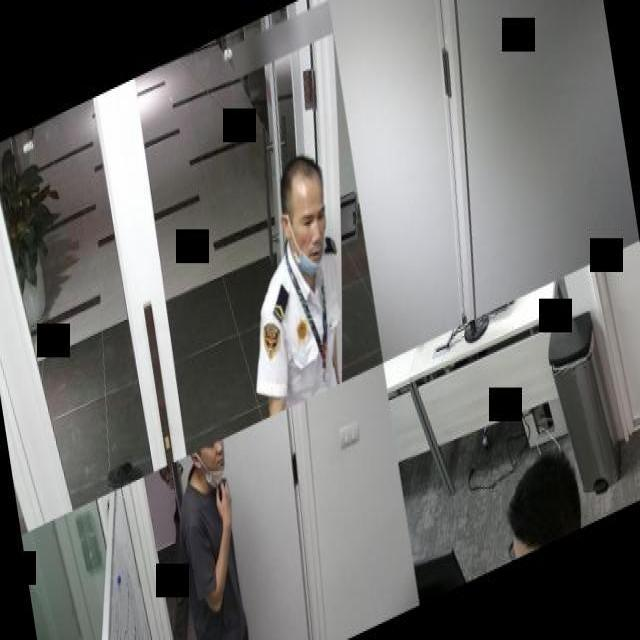hairnet: (291, 198, 327, 276), (200, 436, 227, 488)
